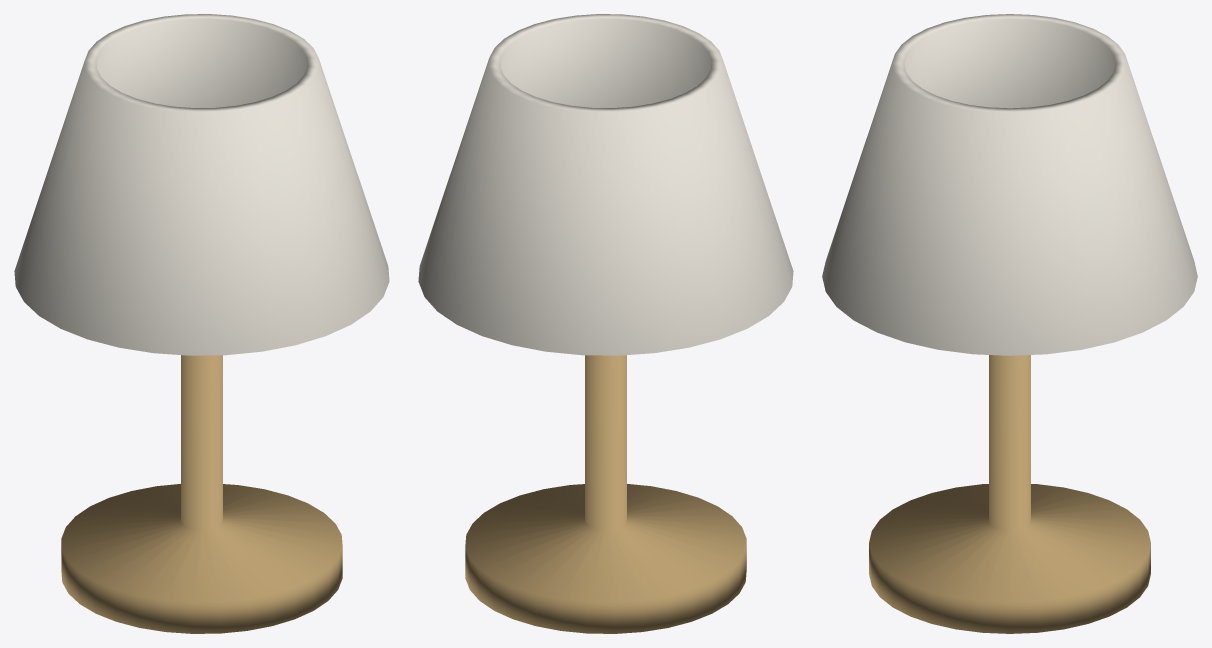
Rendered from sku_lamp.glb.
The picture shows the model from 3 angles, left to right: view 1: azimuth 30°, elevation 25°; view 2: azimuth 150°, elevation 25°; view 3: azimuth 270°, elevation 25°; orthographic projection.
Parts seen in each view (by area): view 1: sku_lamp_FY21_chalk_lacquer, sku_lamp_Satin_champagne; view 2: sku_lamp_FY21_chalk_lacquer, sku_lamp_Satin_champagne; view 3: sku_lamp_FY21_chalk_lacquer, sku_lamp_Satin_champagne.
Boxes of the visible parts, x1,y1,x2,y2 form: sku_lamp_FY21_chalk_lacquer: (14, 14, 389, 355); sku_lamp_Satin_champagne: (61, 355, 342, 633); sku_lamp_FY21_chalk_lacquer: (418, 14, 793, 355); sku_lamp_Satin_champagne: (465, 355, 746, 633); sku_lamp_FY21_chalk_lacquer: (822, 14, 1197, 355); sku_lamp_Satin_champagne: (869, 355, 1150, 633).
Bounding box in the file's own units: 0.32 × 0.48 × 0.32.
